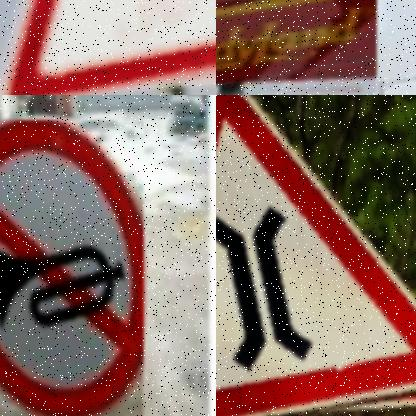Bridge Ahead: (216, 95, 416, 416)
No Horns: (0, 121, 142, 416)
Road Divides: (216, 0, 376, 87)
